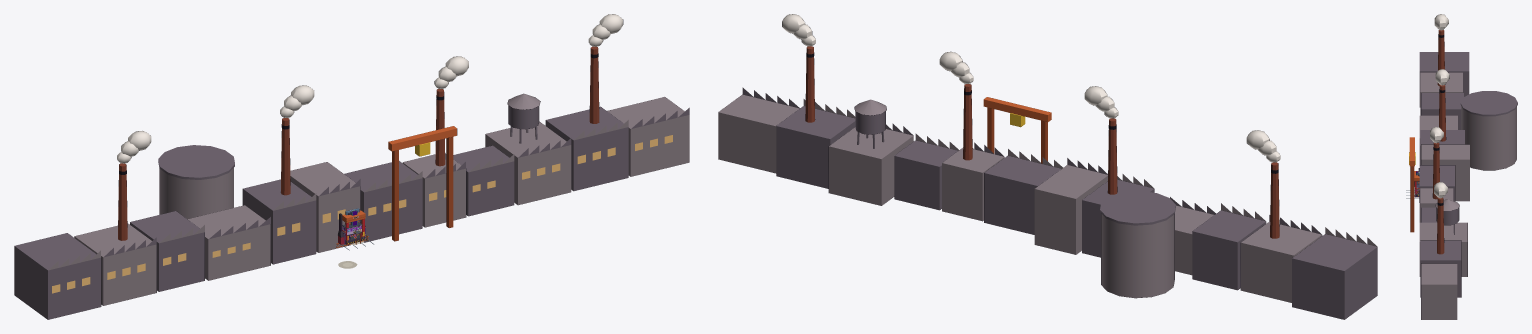
File: fps-kit-factory.glb
3 renders of one model, left to right at view 1: azimuth 30°, elevation 25°; view 2: azimuth 150°, elevation 25°; view 3: azimuth 270°, elevation 25°, orthographic. The views are drawn at different scales.
Parts seen in each view (by area): view 1: KIT_FACTORY_Backdrop_Works, KIT_FACTORY_Landmark_Press; view 2: KIT_FACTORY_Backdrop_Works; view 3: KIT_FACTORY_Backdrop_Works, KIT_FACTORY_Landmark_Press.
Boxes of the visible parts, x1,y1,x2,y2 form: KIT_FACTORY_Backdrop_Works: [14, 14, 689, 319]; KIT_FACTORY_Landmark_Press: [338, 210, 367, 245]; KIT_FACTORY_Backdrop_Works: [718, 14, 1377, 319]; KIT_FACTORY_Backdrop_Works: [1409, 14, 1517, 319]; KIT_FACTORY_Landmark_Press: [1414, 168, 1419, 197].
Bounding box in the file's own units: 236 × 63.01 × 48.35.
Materials: 1 (1 with a texture image).
